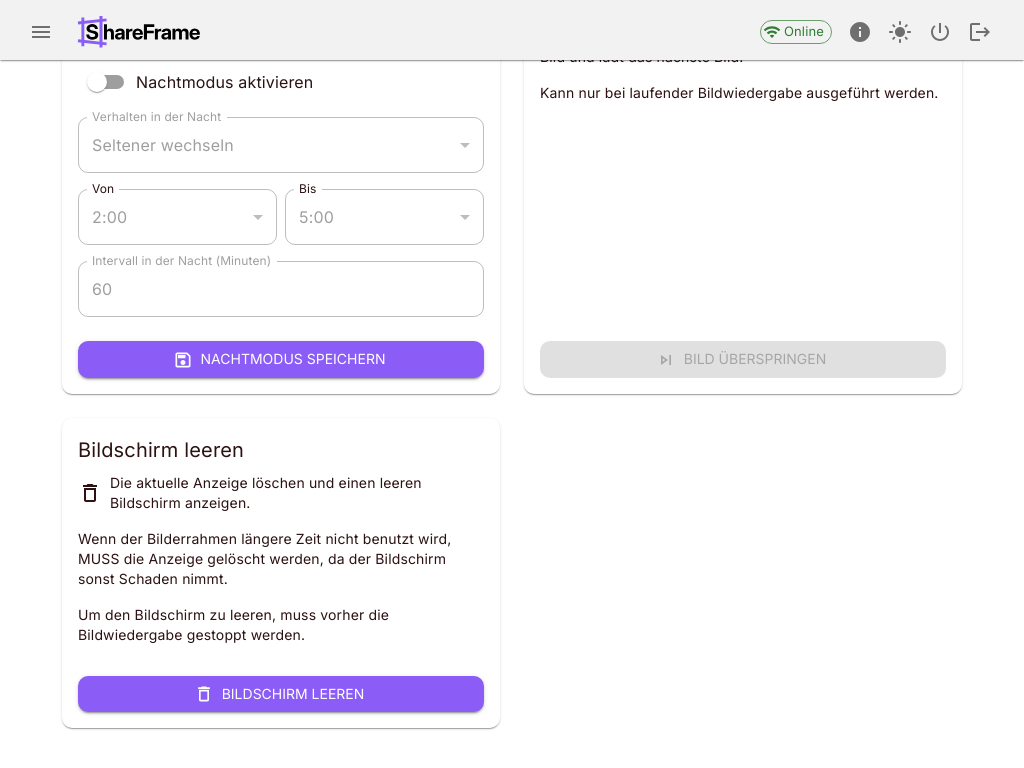
Test: frame actions › only clears the panel while the slideshow is stopped
(page scrolled)
Expected: the button "Bild überspringen" is disabled, [540,341,946,378]
Click the button "Bildschirm leeren" at (281, 694), box [78,676,484,712]
(page scrolled)
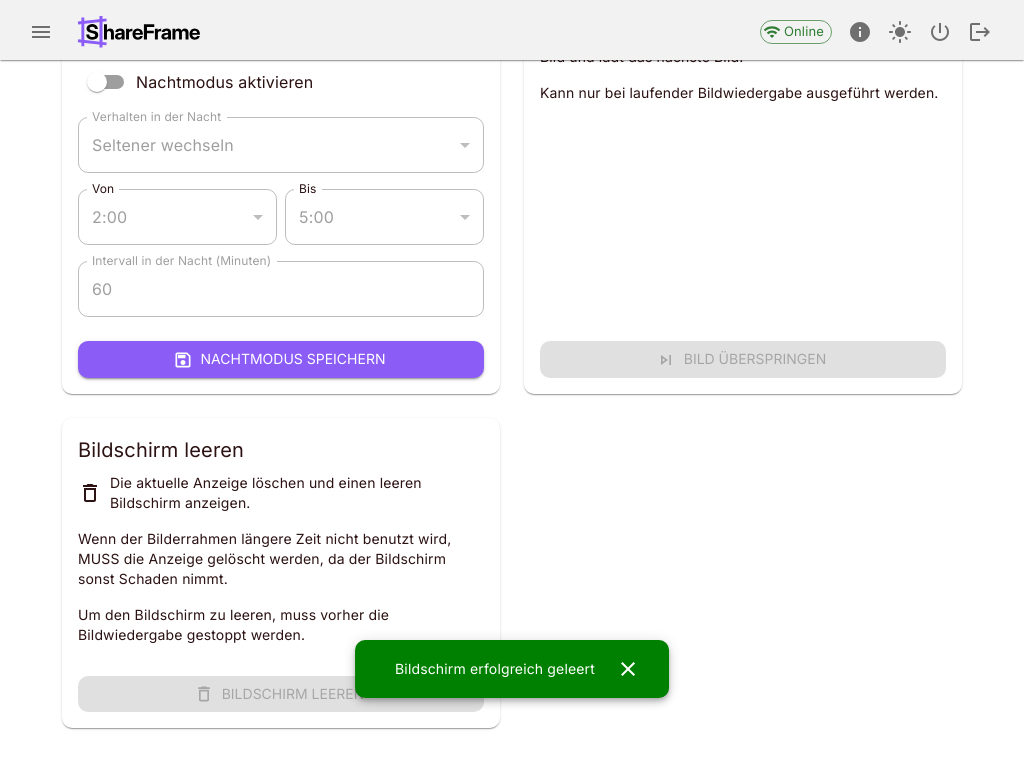
Result: the heading "Bildschirm erfolgreich geleert" is shown at [395,658,595,680]
